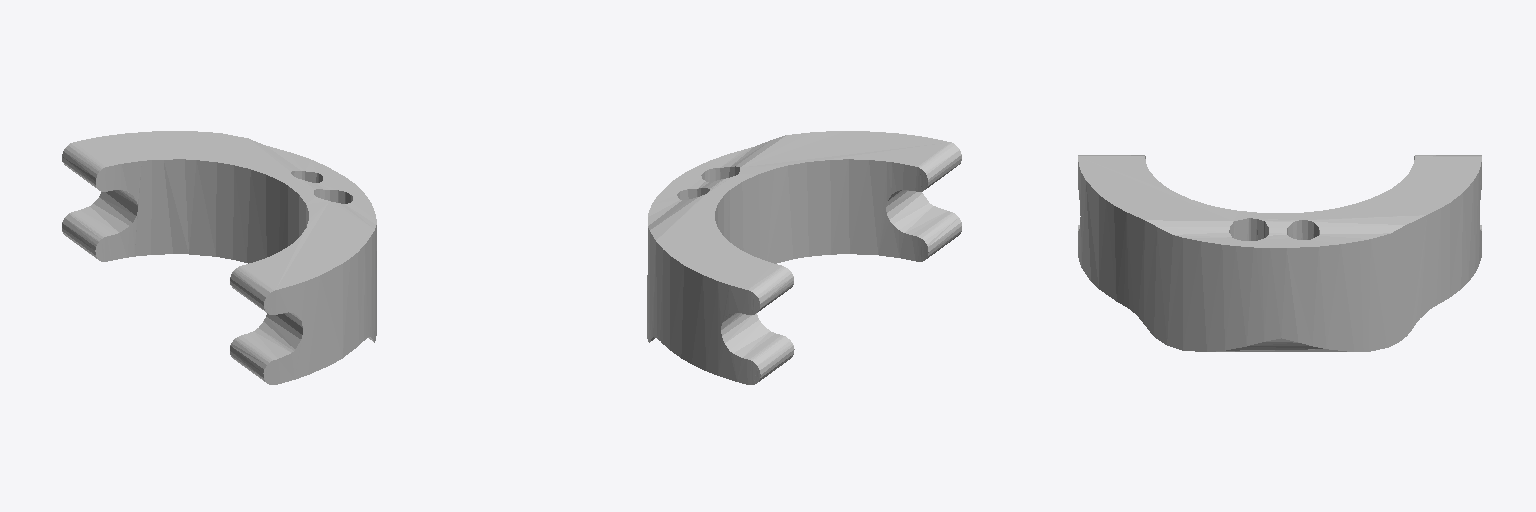
Rendered from seg20.OBJ.
3 renders of one model, left to right at view 1: azimuth 30°, elevation 25°; view 2: azimuth 150°, elevation 25°; view 3: azimuth 270°, elevation 25°, orthographic.
Visible parts, largest first — view 1: /ambf/env/seg20_seg20; view 2: /ambf/env/seg20_seg20; view 3: /ambf/env/seg20_seg20.
Boxes of the visible parts, <box> form: /ambf/env/seg20_seg20: <box>62,131,376,384</box>; /ambf/env/seg20_seg20: <box>647,131,961,384</box>; /ambf/env/seg20_seg20: <box>1078,155,1481,351</box>.
Size of the model in its own units: 0.0032 by 0.002 by 0.006.